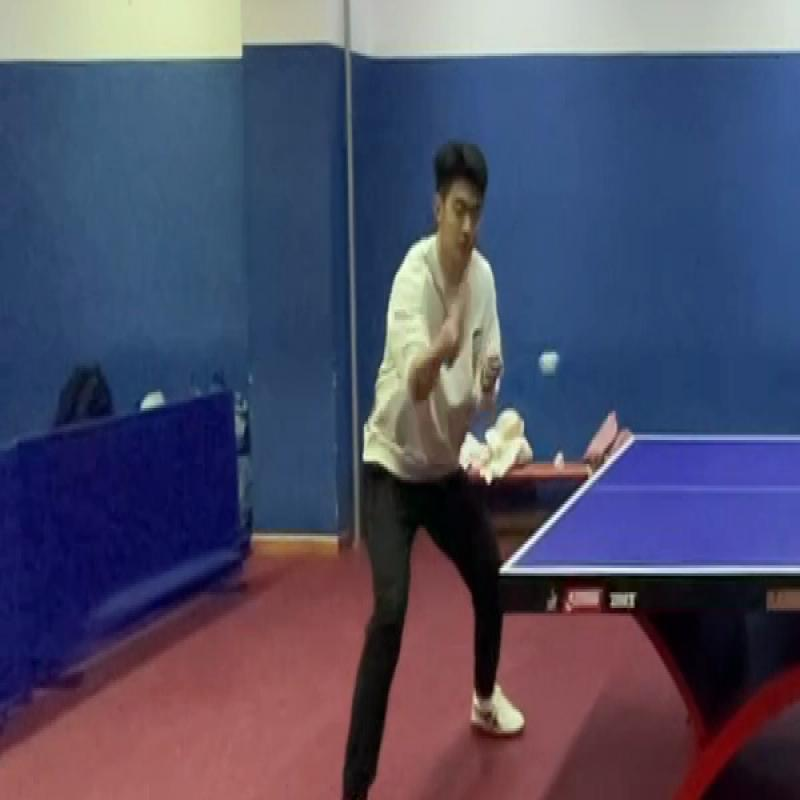bats: (437, 279, 479, 358)
